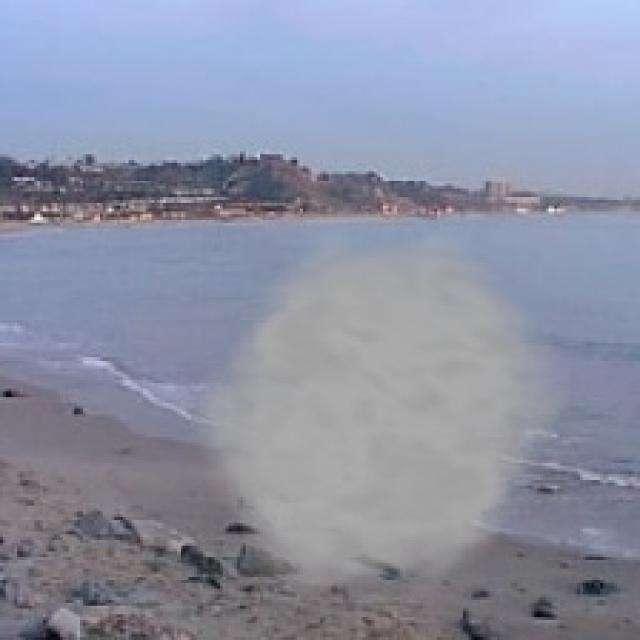smoke: (183, 228, 580, 608)
